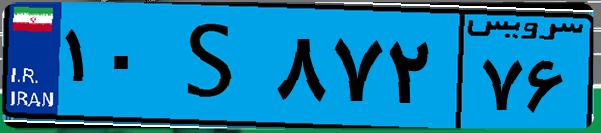0: (110, 28, 158, 98)
1: (57, 26, 110, 100)
2: (385, 28, 445, 110)
6: (525, 38, 570, 115)
7: (330, 28, 385, 110), (475, 38, 525, 113)
8: (270, 28, 330, 110)
S: (158, 12, 270, 120)
